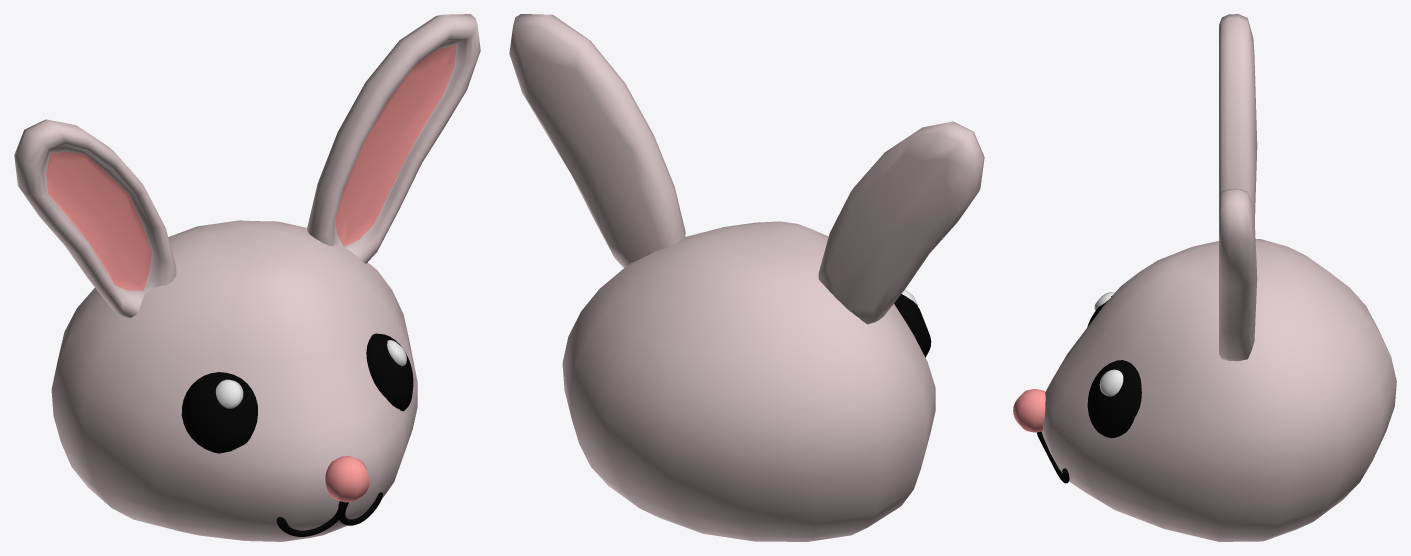
File: rabbithead.fbx
The picture shows the model from 3 angles, left to right: view 1: azimuth 30°, elevation 25°; view 2: azimuth 150°, elevation 25°; view 3: azimuth 270°, elevation 25°; orthographic projection. The views are drawn at different scales.
Visible parts, largest first — view 1: rabbit_head; view 2: rabbit_head; view 3: rabbit_head.
Boxes of the visible parts, bbox=[...] form: rabbit_head: bbox=[14, 14, 480, 541]; rabbit_head: bbox=[509, 14, 984, 541]; rabbit_head: bbox=[1013, 14, 1396, 541].
Bounding box in the file's own units: 77.48 × 70.96 × 59.97.
